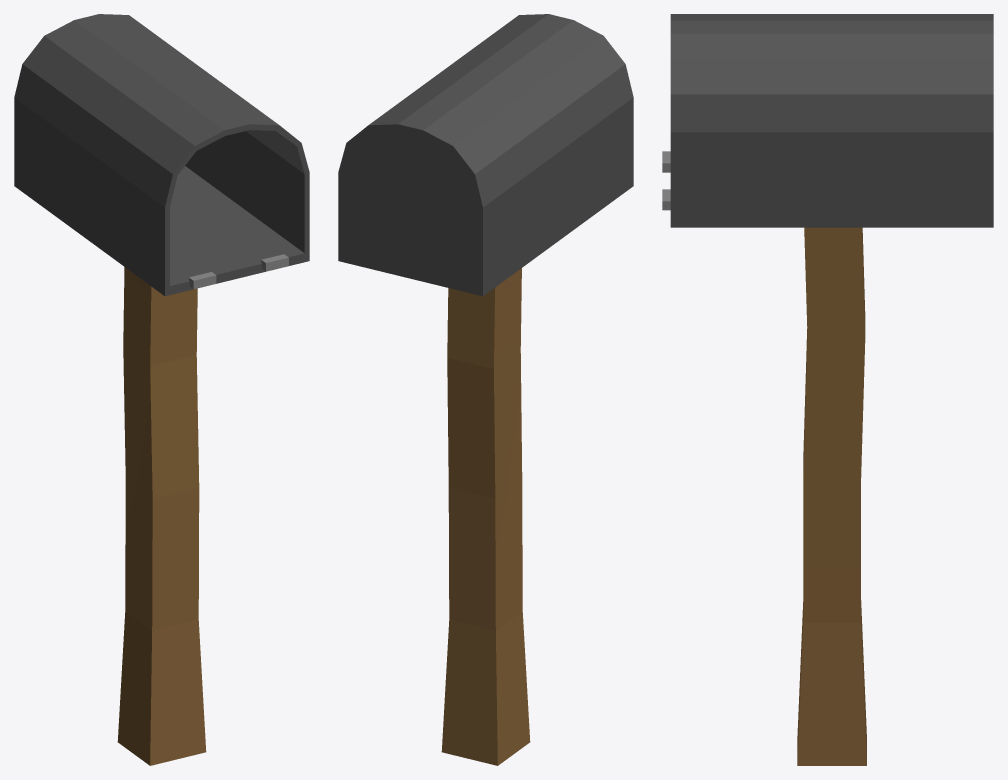
Rendered from Mailbox_05.fbx.
3 renders of one model, left to right at view 1: azimuth 30°, elevation 25°; view 2: azimuth 150°, elevation 25°; view 3: azimuth 270°, elevation 25°, orthographic. The views are drawn at different scales.
Visible parts, largest first — view 1: Mailbox_05; view 2: Mailbox_05; view 3: Mailbox_05.
Boxes of the visible parts, x1,y1,x2,y2 form: Mailbox_05: (14,14,309,765); Mailbox_05: (338,14,633,765); Mailbox_05: (662,14,993,765).
Bounding box in the file's own units: 23.98 × 107 × 44.34.
